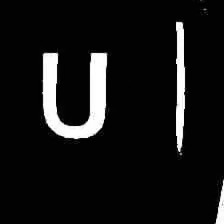LTR_U: (35, 42, 112, 143)
